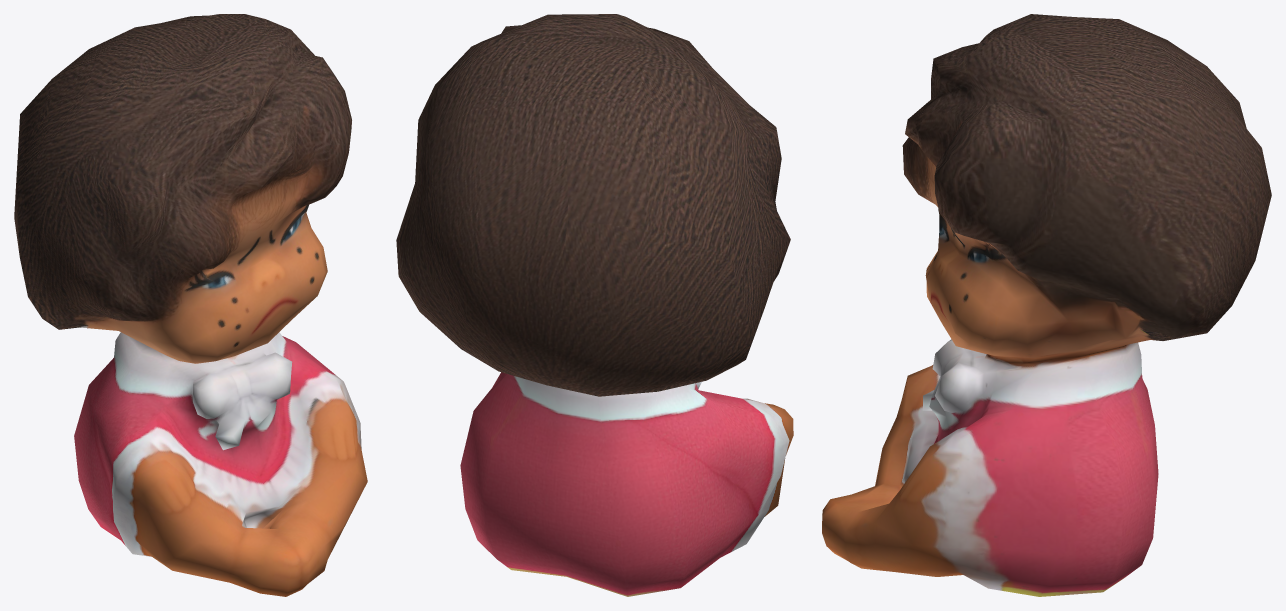
The model's file is RedDoll.fbx.
3 renders of one model, left to right at view 1: azimuth 30°, elevation 25°; view 2: azimuth 150°, elevation 25°; view 3: azimuth 270°, elevation 25°, orthographic. The views are drawn at different scales.
Parts seen in each view (by area): view 1: tripo_node_60059937; view 2: tripo_node_60059937; view 3: tripo_node_60059937.
Part boxes in pixels (left/top/right/bottom): tripo_node_60059937: left=14, top=14, right=367, bottom=596; tripo_node_60059937: left=396, top=14, right=793, bottom=596; tripo_node_60059937: left=822, top=14, right=1271, bottom=596.
Size of the model in its own units: 32.43 by 49.71 by 38.81.
1 material, 1 textured.
